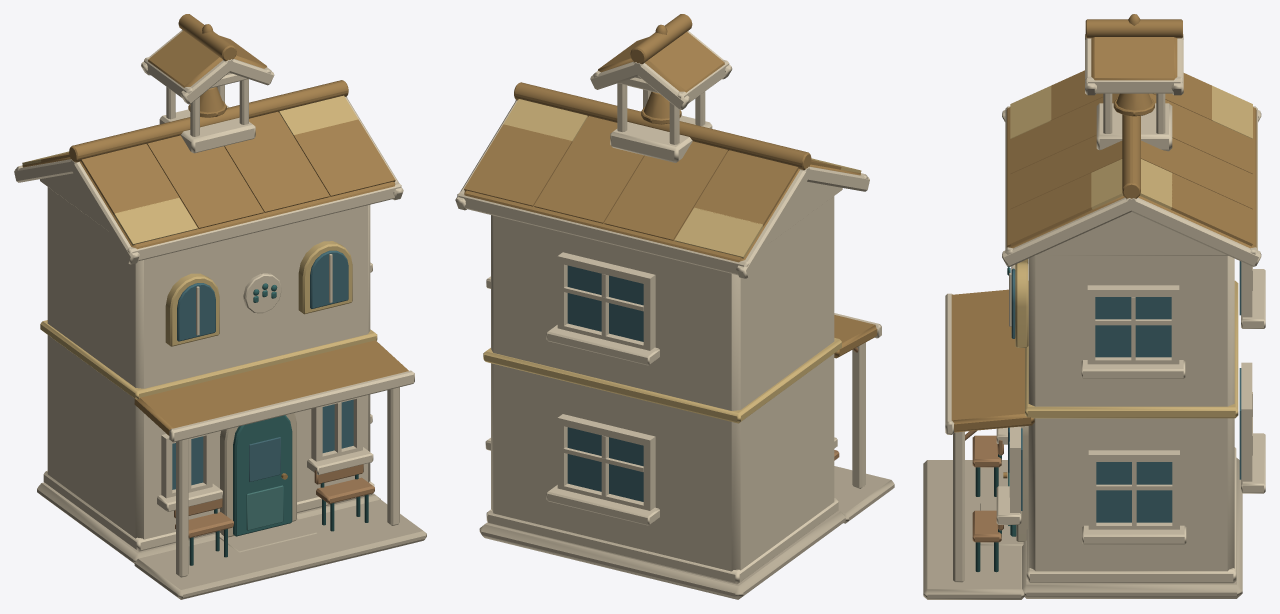
File: town_hall_level_3.glb
3 renders of one model, left to right at view 1: azimuth 30°, elevation 25°; view 2: azimuth 150°, elevation 25°; view 3: azimuth 270°, elevation 25°, orthographic. The views are drawn at different scales.
Visible parts, largest first — view 1: town_hall_level_3_runtime; view 2: town_hall_level_3_runtime; view 3: town_hall_level_3_runtime.
Boxes of the visible parts, x1,y1,x2,y2 form: town_hall_level_3_runtime: (14,14,426,599); town_hall_level_3_runtime: (455,14,894,599); town_hall_level_3_runtime: (923,14,1265,599).
Size of the model in its own units: 3.86 by 6.31 by 3.76.
